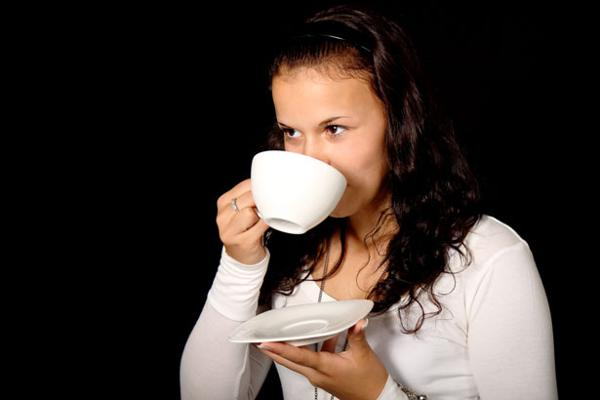person: (169, 7, 564, 400)
